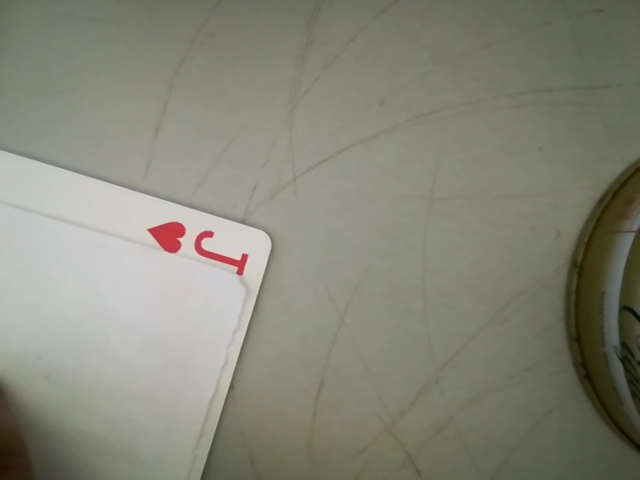hx j: (132, 214, 266, 275)
